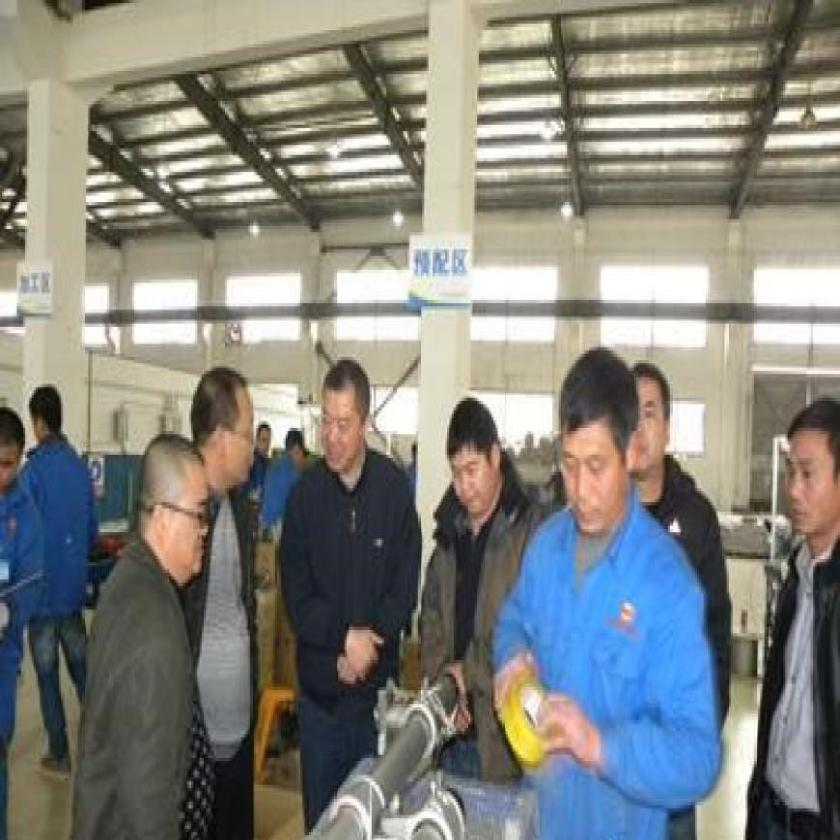Sin_casco: (556, 346, 635, 532), (135, 429, 213, 595), (783, 390, 840, 553), (192, 363, 254, 502), (444, 396, 510, 526), (318, 358, 377, 483), (634, 363, 677, 487), (26, 385, 64, 449), (0, 407, 26, 492), (287, 424, 306, 463), (255, 418, 272, 460)
